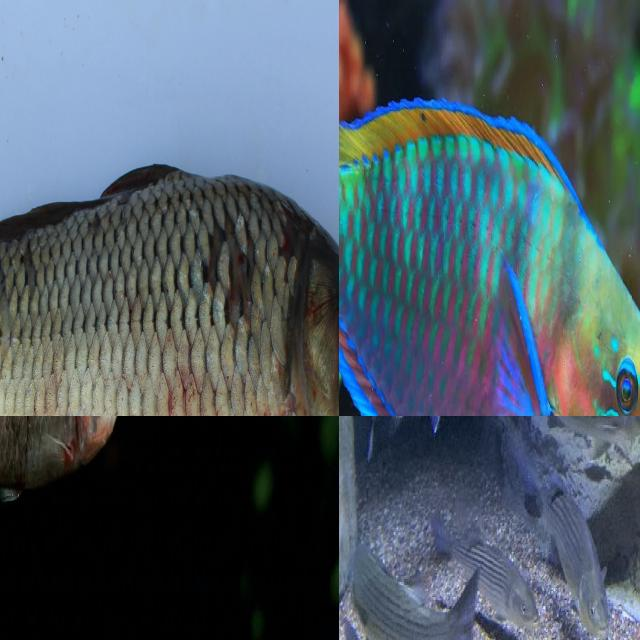fish: (0, 0, 339, 416), (374, 0, 640, 416), (0, 463, 192, 637), (363, 416, 470, 448)
